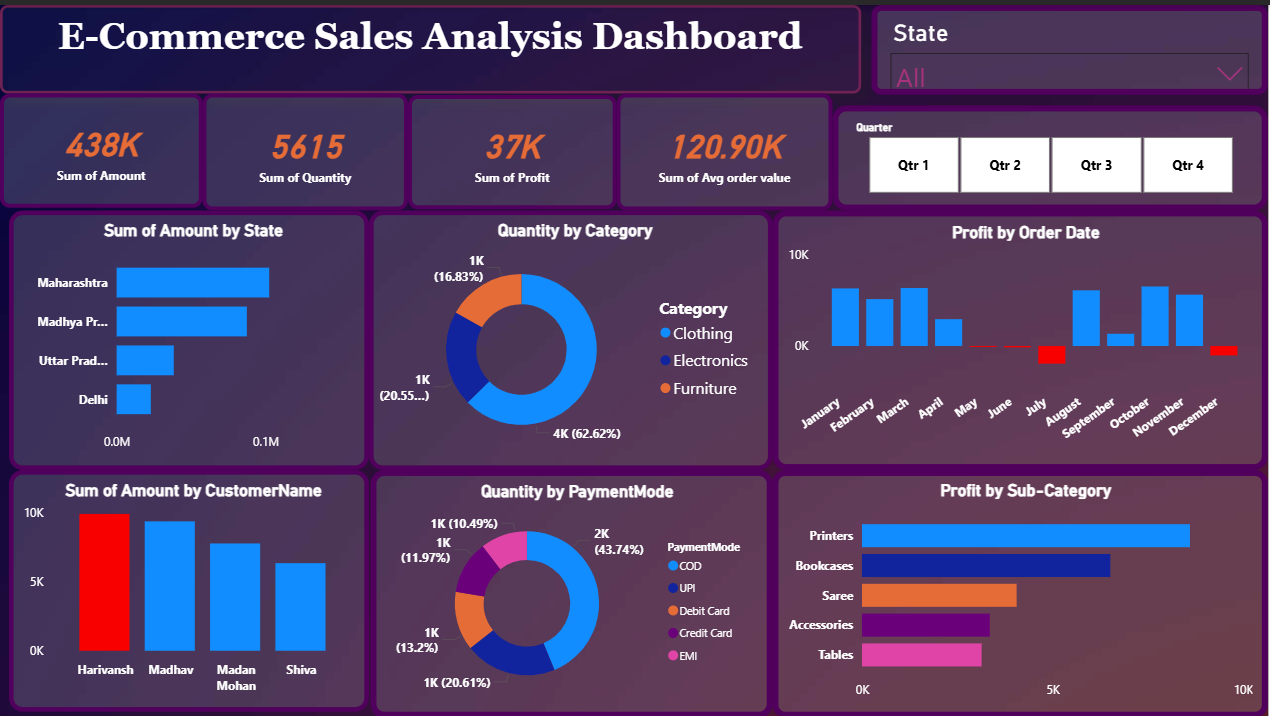

This screenshot's page, from the dashboard's own definition file:
{"tool":"powerbi","page":{"name":"Page 1","canvas":[1280,720],"ordinal":0},"visuals":[{"type":"textbox","box":[0,0,869.2,89.3],"z":0},{"type":"columnChart","title":"Profit by Order Date","fields":{"Y":["Details.Profit"],"Category":["Orders.Order Date.Variation.Date Hierarchy.Month"]},"box":[779.8,207.4,499.7,262],"z":1000},{"type":"barChart","title":"Profit by Sub-Category","fields":{"Category":["Details.Sub-Category"],"Y":["Details.Profit"],"Series":["Details.Sub-Category"]},"box":[779.8,469.4,499.7,249.8],"z":2000},{"type":"donutChart","title":"Quantity by Category","fields":{"Y":["Details.Quantity"],"Category":["Details.Category"]},"box":[372.5,207.4,407.3,262],"z":3000},{"type":"donutChart","title":"Quantity by PaymentMode","fields":{"Y":["Details.Quantity"],"Category":["Details.PaymentMode"]},"box":[374,469.4,405.8,249.8],"z":4000},{"type":"clusteredBarChart","fields":{"Category":["Orders.State"],"Y":["Details.Amount"]},"box":[9.1,207.4,363.4,262],"z":5000},{"type":"columnChart","fields":{"Category":["Orders.CustomerName"],"Y":["Details.Amount"]},"box":[9.1,469.4,363.4,243.8],"z":6000},{"type":"card","fields":{"Values":["Details.Amount"]},"box":[0,89.3,204.4,115.1],"z":7000},{"type":"card","fields":{"Values":["Details.Quantity"]},"box":[204.4,89.3,207.4,118.1],"z":8000},{"type":"card","fields":{"Values":["Details.Profit"]},"box":[411.9,90.9,210.5,115.1],"z":9000},{"type":"card","fields":{"Values":["Details.Avg order value"]},"box":[622.3,89.3,218,118.1],"z":10000},{"type":"slicer","fields":{"Values":["Orders.Order Date.Variation.Date Hierarchy.Quarter"]},"box":[840.4,101.5,439.1,106],"z":11000},{"type":"slicer","fields":{"Values":["Orders.State"]},"box":[879.8,0,399.8,90.9],"z":12000}]}

Visuals, with their boxes in screenshot pixels (x1, y1, x2, y2), scaled from the page's 1280x720 canvas onto the 1270x716 screenshot:
textbox: Rect(0, 0, 862, 89)
"Profit by Order Date" columnChart: Rect(774, 206, 1269, 467)
"Profit by Sub-Category" barChart: Rect(774, 467, 1269, 715)
"Quantity by Category" donutChart: Rect(370, 206, 774, 467)
"Quantity by PaymentMode" donutChart: Rect(371, 467, 774, 715)
clusteredBarChart - Orders.State x Details.Amount: Rect(9, 206, 370, 467)
columnChart - Orders.CustomerName x Details.Amount: Rect(9, 467, 370, 709)
card - Details.Amount: Rect(0, 89, 203, 203)
card - Details.Quantity: Rect(203, 89, 409, 206)
card - Details.Profit: Rect(409, 90, 618, 205)
card - Details.Avg order value: Rect(617, 89, 834, 206)
slicer - Orders.Order Date.Variation.Date Hierarchy.Quarter: Rect(834, 101, 1269, 206)
slicer - Orders.State: Rect(873, 0, 1269, 90)
